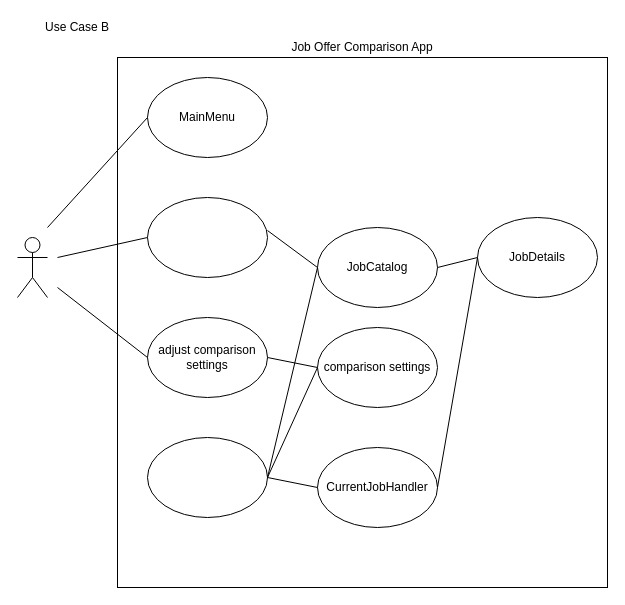
Some shapes in this 625 by 605 pixel diagram are drawn without their labels. Here are the shapes that lost their labels. From the top down, the centre of each, then its label:
At pixel 207 237: "enter job offers and save".
At pixel 32 267: "User".
At pixel 207 477: "compare job offers".
